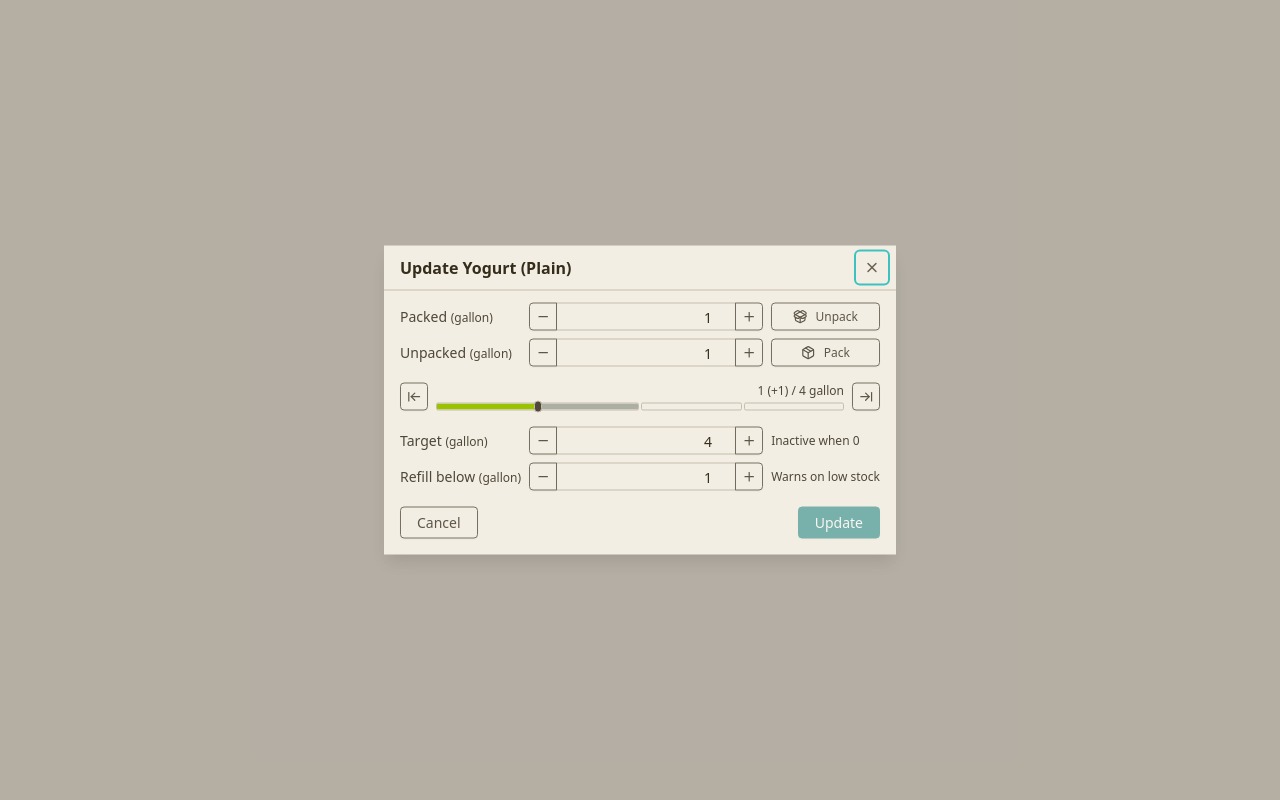
Test: QuickUpdateDialog — stepper fallback for consumeAmount 0 › user can decrease the unpacked quantity on an item with consumeAmount 0
The image size is (1280, 800).
// When the user clicks −
What coordinates should you click on to do the following:
click the button named "Decrease unpacked"
I would click on:
 (543, 352)
Its box is [529,338,557,366].
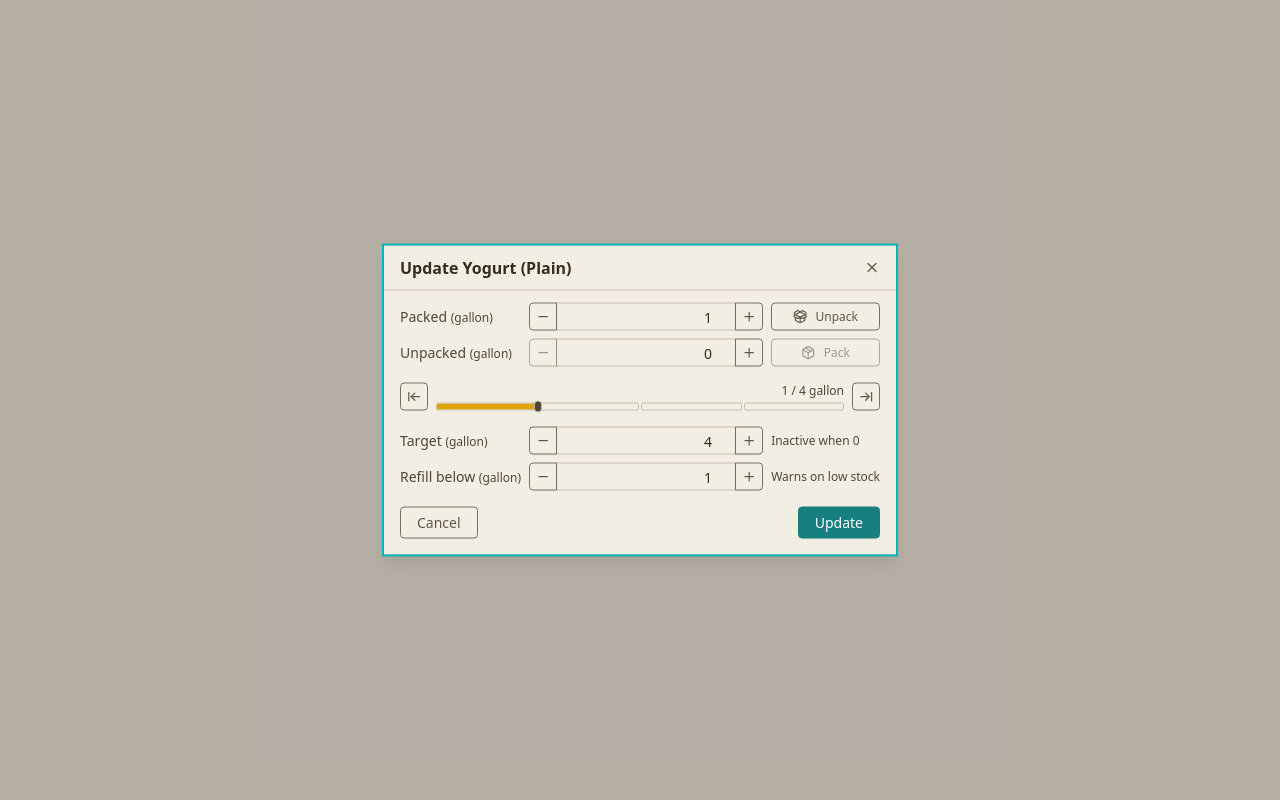
Check: the number field named "Unpacked (gallon)" holds "0", box [556,338,736,366]
